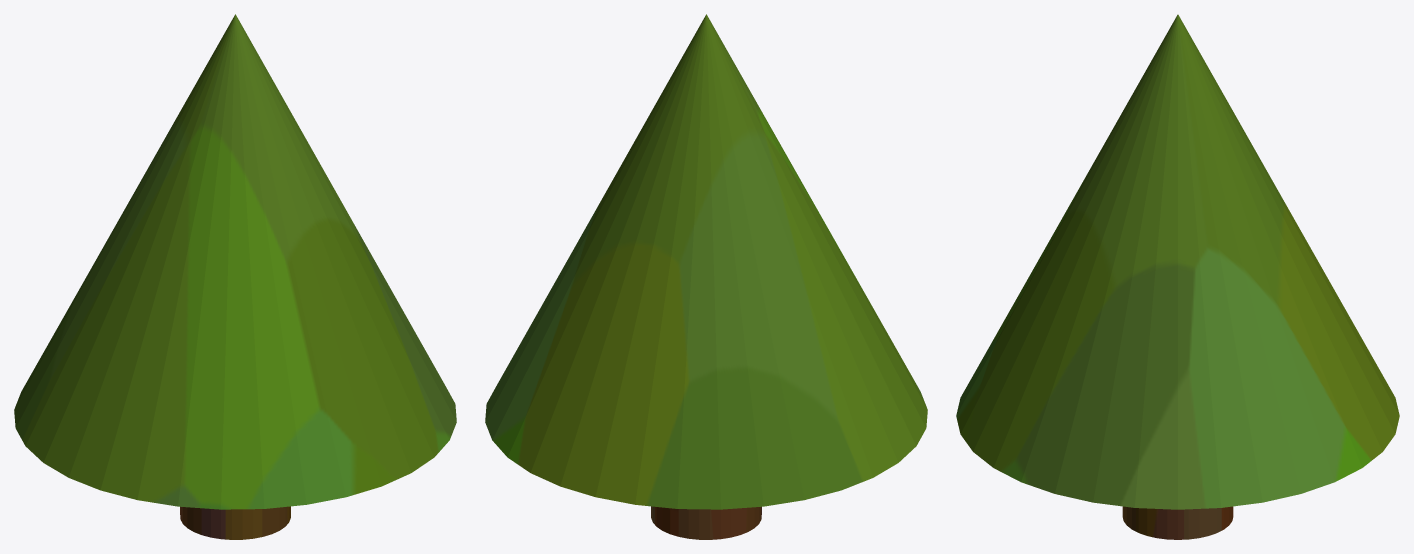
The model's file is tree.fbx.
3 renders of one model, left to right at view 1: azimuth 30°, elevation 25°; view 2: azimuth 150°, elevation 25°; view 3: azimuth 270°, elevation 25°, orthographic.
Visible parts, largest first — view 1: Cylinder; view 2: Cylinder; view 3: Cylinder.
Part boxes in pixels (x1,y1,x2,y2): Cylinder: (14, 14, 456, 539); Cylinder: (485, 14, 927, 539); Cylinder: (956, 14, 1399, 539).
Size of the model in its own units: 200 by 250 by 200.
1 material, 1 textured.
